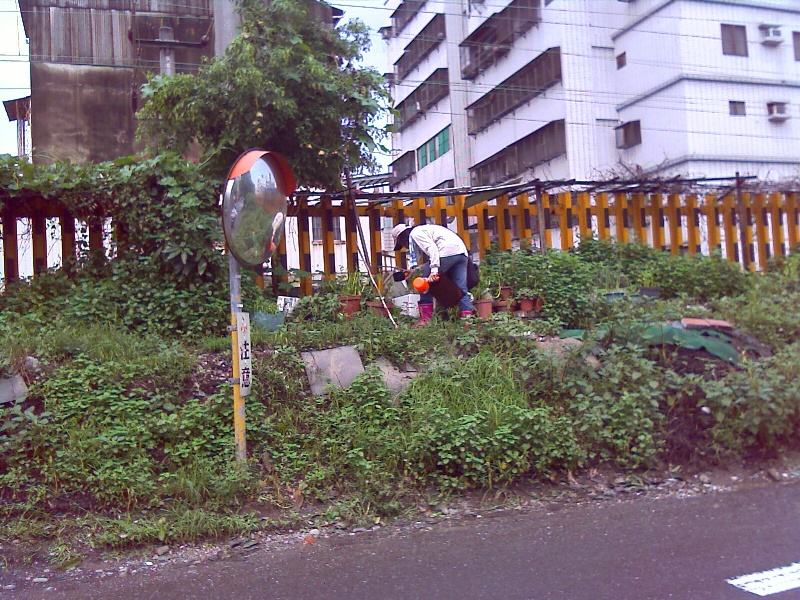styrofoam: (389, 293, 422, 321)
